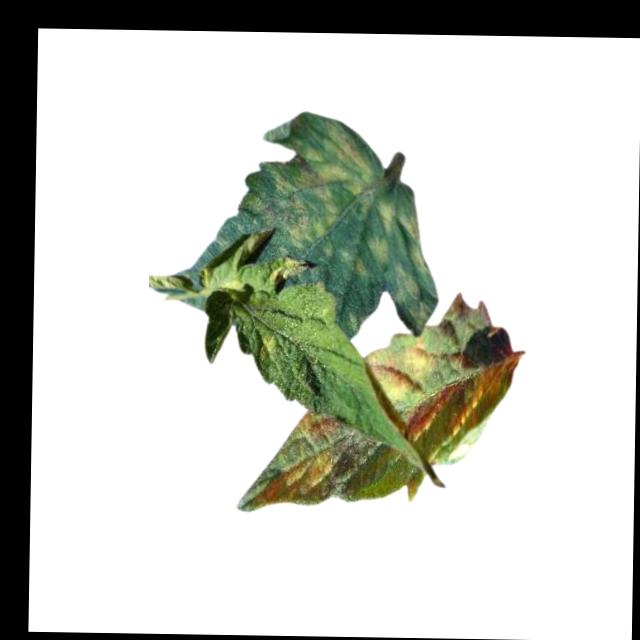Leaf_Mold: (247, 117, 376, 254), (408, 353, 518, 453), (254, 410, 344, 506), (372, 199, 434, 329), (362, 335, 434, 407), (257, 331, 283, 362)
